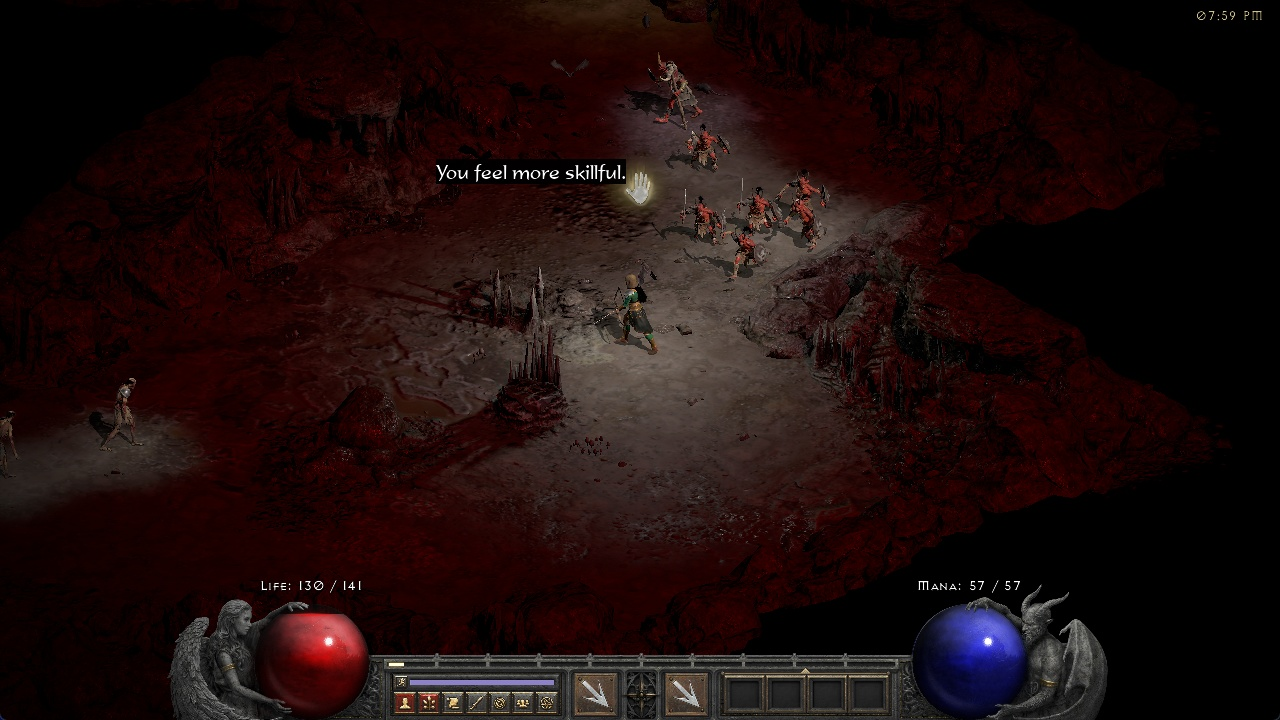fallen: (678, 193, 723, 247), (725, 229, 768, 281), (681, 126, 731, 170), (786, 201, 828, 252), (736, 185, 773, 231), (782, 173, 831, 199)
